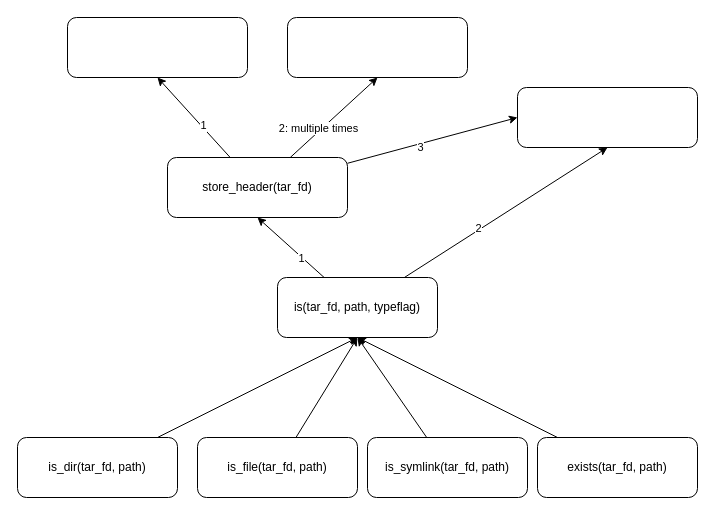
This 715x515 diagram has some shape labels left out. The shapes that lost their labels are listed below. From the top down, each one's centre as x and y in pixels, then its label:
the point at 157,47: check_archive(tar_fd)
the point at 377,47: put_tar_info(tar_fd)
the point at 607,117: reset_fd(fd)
